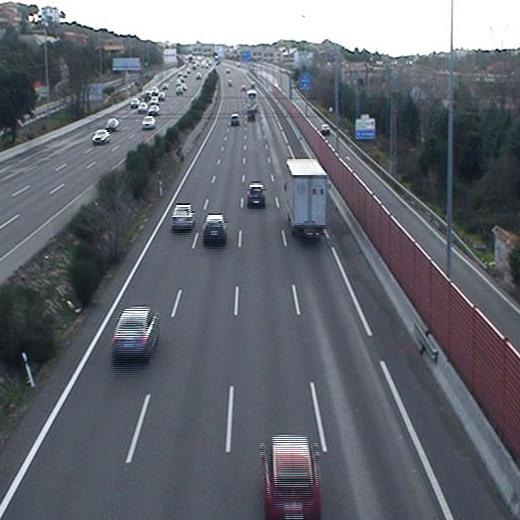bus: (246, 90, 261, 116)
car: (257, 431, 326, 520), (108, 301, 163, 366), (199, 211, 229, 249), (167, 200, 199, 233), (244, 179, 271, 211), (229, 112, 242, 129)
truck: (281, 156, 334, 245)
